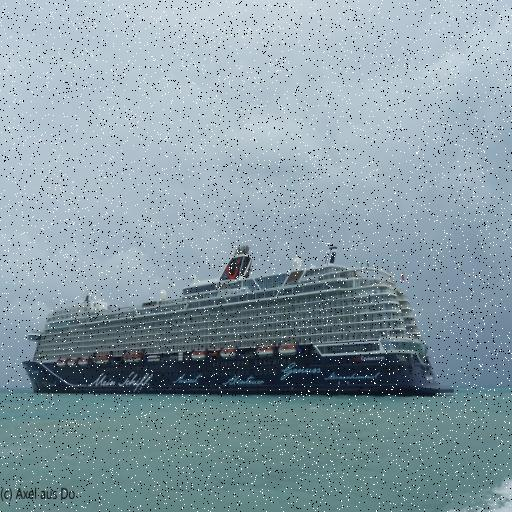cruises: (18, 243, 457, 401)
